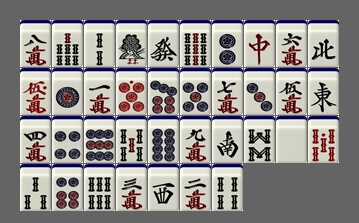0m: (20, 68, 51, 115)
0p: (116, 68, 147, 115)
0s: (308, 116, 339, 163)
1m: (84, 68, 115, 115)
1p: (52, 68, 83, 115)
1s: (116, 20, 147, 67)
1z: (308, 68, 339, 115)
2m: (180, 164, 211, 211)
2p: (212, 20, 243, 67)
2s: (84, 20, 115, 67)
2z: (212, 116, 243, 163)
3m: (116, 164, 147, 211)
3p: (244, 68, 275, 115)
3s: (20, 164, 51, 211)
3z: (148, 164, 179, 211)
4m: (20, 116, 51, 163)
4p: (52, 116, 83, 163)
4s: (212, 164, 243, 211)
4z: (308, 20, 339, 67)
5m: (276, 68, 307, 115)
5p: (180, 68, 211, 115)
5s: (116, 116, 147, 163)
5z: (276, 116, 307, 163)
6m: (276, 20, 307, 67)
6p: (52, 164, 83, 211)
6s: (84, 164, 115, 211)
6z: (148, 20, 179, 67)
7m: (212, 68, 243, 115)
7p: (148, 68, 179, 115)
7s: (52, 20, 83, 67)
7z: (244, 20, 275, 67)
8m: (20, 20, 51, 67)
8p: (148, 116, 179, 163)
8s: (244, 116, 275, 163)
9m: (180, 116, 211, 163)
9p: (84, 116, 115, 163)
9s: (180, 20, 211, 67)
